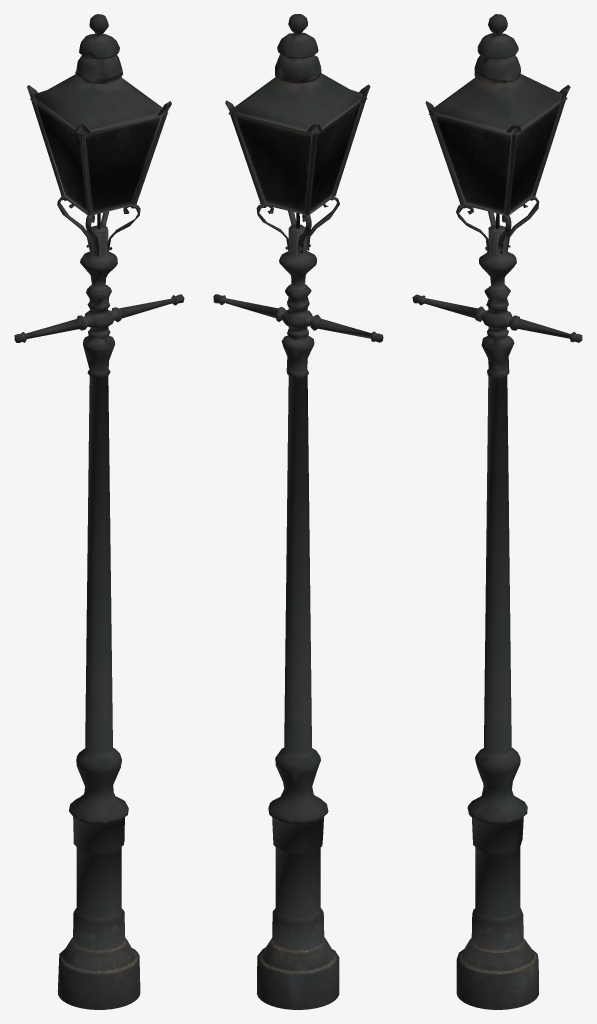
File: street_lamp_01.glb
3 views of the same model, side by side, from view 1: azimuth 30°, elevation 25°; view 2: azimuth 150°, elevation 25°; view 3: azimuth 330°, elevation 25° (orthographic).
Visible parts, largest first — view 1: street_lamp_01; view 2: street_lamp_01; view 3: street_lamp_01.
Boxes of the visible parts, x1,y1,x2,y2 form: street_lamp_01: [14, 14, 184, 1009]; street_lamp_01: [213, 14, 383, 1009]; street_lamp_01: [412, 14, 582, 1009].
Size of the model in its own units: 0.7034 by 3.87 by 0.3853.
2 materials, 2 textured.
